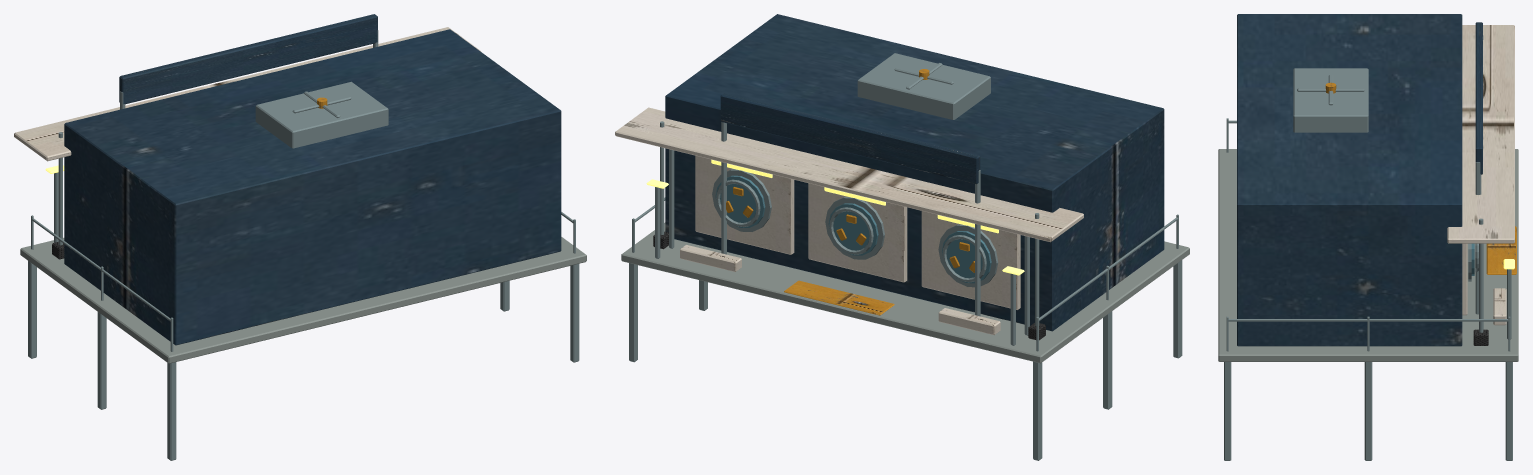
Rendered from nightshift.glb.
3 views of the same model, side by side, from view 1: azimuth 30°, elevation 25°; view 2: azimuth 150°, elevation 25°; view 3: azimuth 270°, elevation 25° (orthographic).
Visible parts, largest first — view 1: static_signature_paint, static_signature_steel, static_signature_deck; view 2: static_signature_paint, static_signature_steel, static_signature_deck, static_signature_glass, static_signature_amber, washer_1_signature_steel; view 3: static_signature_paint, static_signature_deck, static_signature_steel, roof_fan_signature_steel.
Boxes of the visible parts, left/top/right/bottom form: static_signature_paint: left=14, top=14, right=561, bottom=345; static_signature_steel: left=28, top=30, right=579, bottom=460; static_signature_deck: left=20, top=237, right=586, bottom=363; static_signature_paint: left=615, top=14, right=1164, bottom=340; static_signature_steel: left=629, top=53, right=1182, bottom=460; static_signature_deck: left=621, top=222, right=1189, bottom=363; static_signature_glass: left=715, top=175, right=991, bottom=283; static_signature_amber: left=646, top=159, right=1024, bottom=275; washer_1_signature_steel: left=829, top=207, right=873, bottom=254; static_signature_paint: left=1237, top=14, right=1516, bottom=346; static_signature_deck: left=1218, top=149, right=1518, bottom=361; static_signature_steel: left=1224, top=35, right=1512, bottom=460; roof_fan_signature_steel: left=1297, top=75, right=1364, bottom=105.
Size of the model in its own units: 27 by 16.2 by 16.
5 materials, 1 textured.
